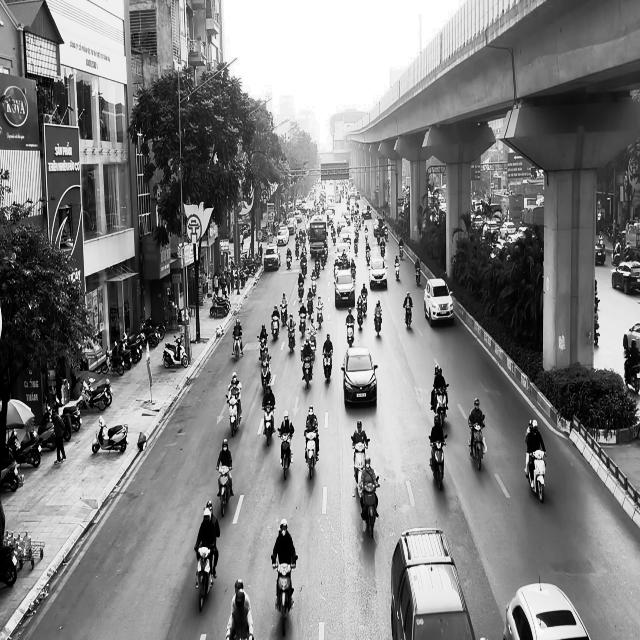car: (390, 526, 476, 640), (502, 578, 590, 639), (341, 346, 378, 407), (424, 277, 454, 326), (369, 258, 387, 288), (264, 244, 280, 272)
motorbike: (271, 554, 298, 635), (195, 544, 216, 612), (92, 416, 128, 454), (358, 476, 379, 538), (524, 450, 546, 502), (428, 433, 448, 490), (350, 435, 370, 484), (468, 419, 486, 470), (162, 334, 188, 368), (277, 428, 294, 479), (215, 465, 232, 516), (304, 431, 319, 479), (226, 393, 242, 437), (433, 383, 448, 427), (300, 349, 314, 389), (262, 404, 275, 446), (259, 355, 272, 392), (322, 349, 332, 382), (232, 332, 243, 361), (286, 322, 296, 353), (257, 334, 268, 362), (404, 305, 412, 330), (346, 321, 354, 346), (271, 315, 279, 340), (374, 312, 382, 336), (394, 256, 400, 280), (415, 265, 421, 286)
